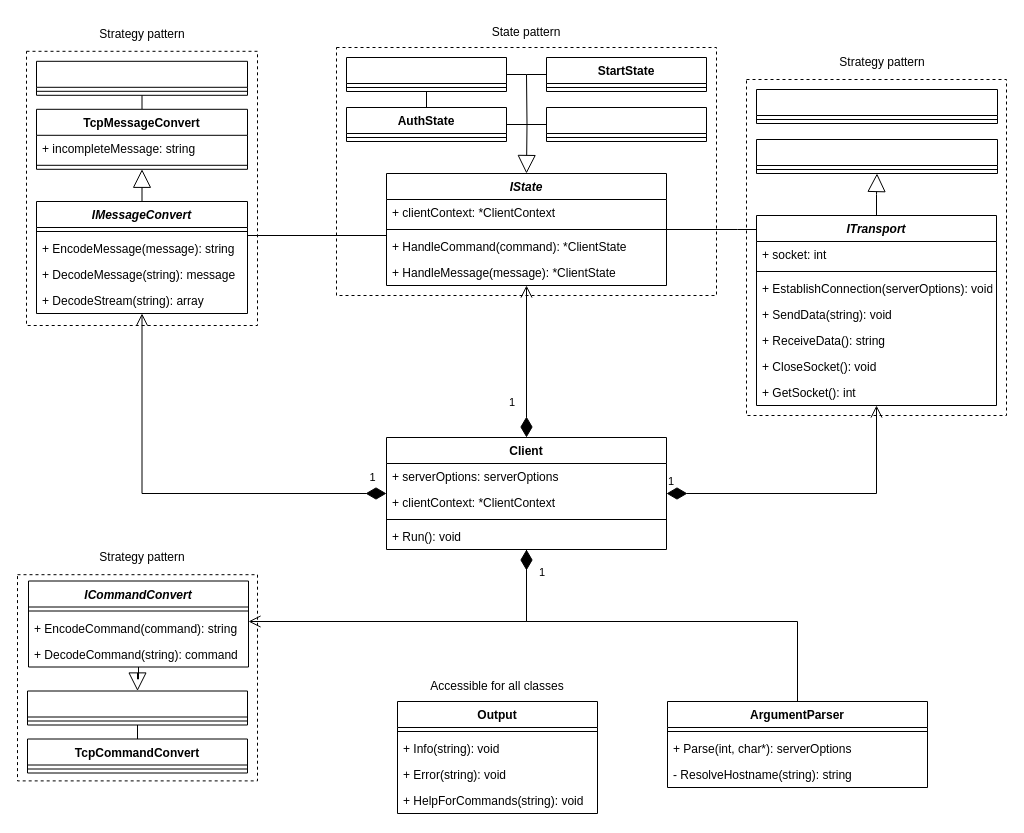
Some shapes in this 1024 by 833 pixel diagram are drawn without their labels. The centre of each missing label's shape, as x and y in pixels:
JoinState: the point at 426,74
OpenState: the point at 626,124
TcpTransport: the point at 877,156
UdpCommandConvert: the point at 137,707
UdpMessageConvert: the point at 142,77
UdpTransport: the point at 877,106
